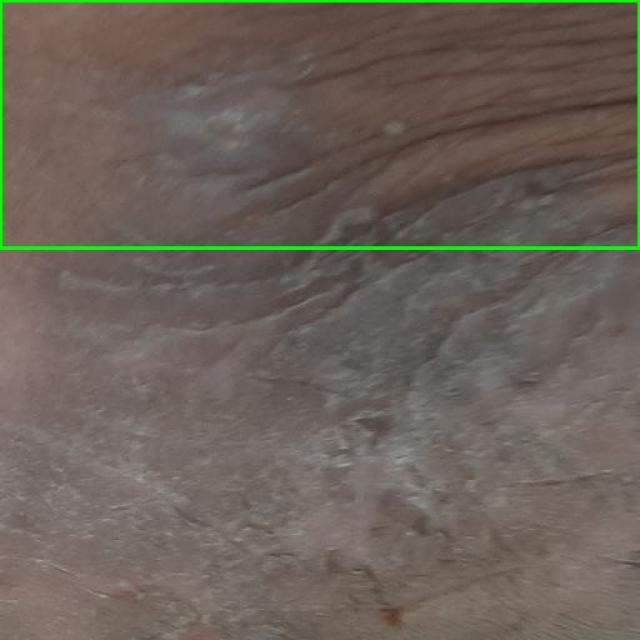Eczema: (0, 0, 639, 248)
